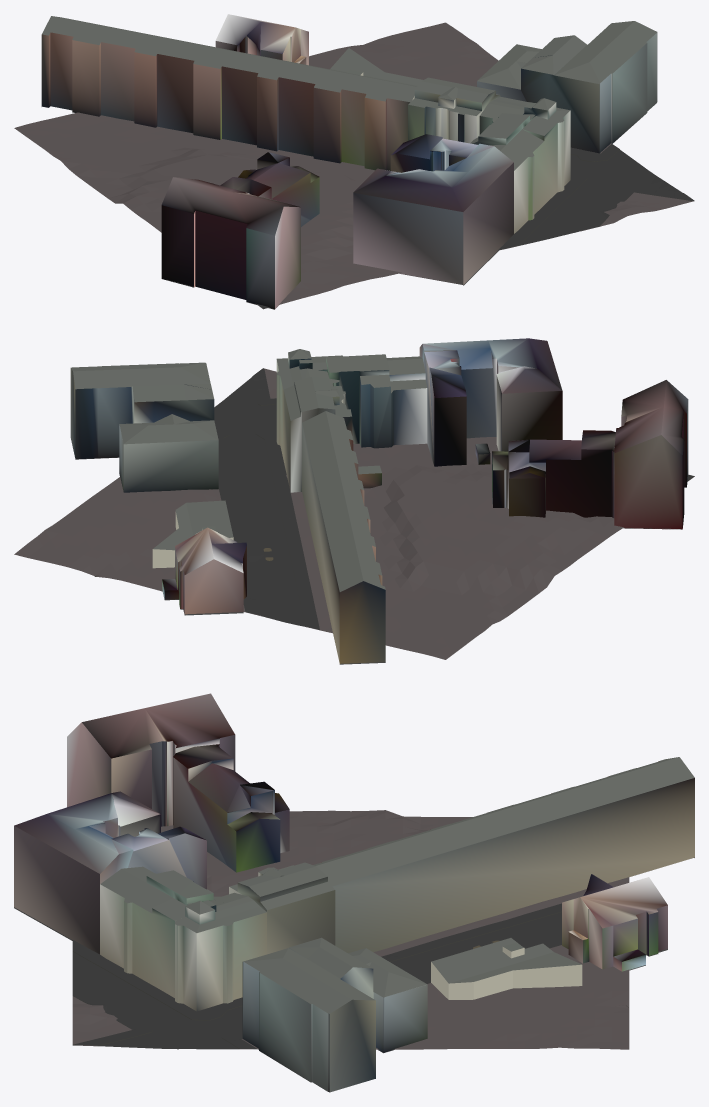
The picture shows the model from 3 angles, top to bottom: view 1: azimuth 30°, elevation 25°; view 2: azimuth 150°, elevation 25°; view 3: azimuth 270°, elevation 25°; orthographic projection. The views are drawn at different scales.
Visible parts, largest first — view 1: c_m14_m12; view 2: c_m14_m12; view 3: c_m14_m12.
Part boxes in pixels (x1,y1,x2,y2): c_m14_m12: (14, 14, 694, 309); c_m14_m12: (14, 338, 694, 664); c_m14_m12: (14, 693, 694, 1092).
Bounding box in the file's own units: 164 × 28.15 × 157.
